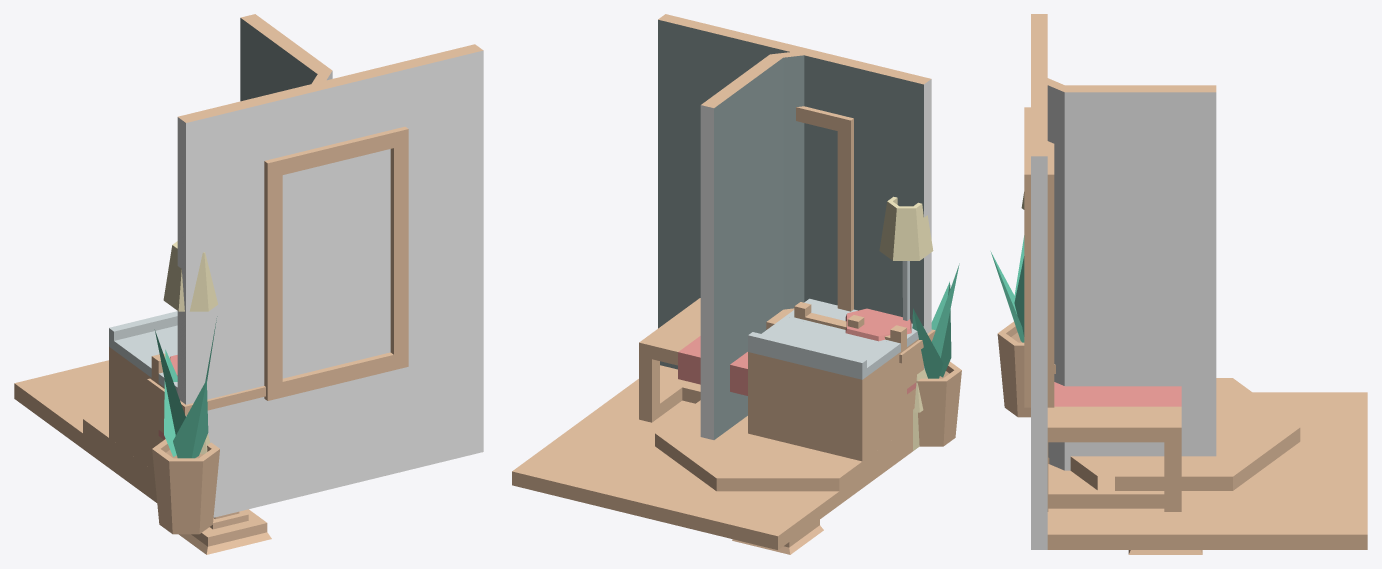
The model's file is cafe.glb.
The picture shows the model from 3 angles, left to right: view 1: azimuth 30°, elevation 25°; view 2: azimuth 150°, elevation 25°; view 3: azimuth 270°, elevation 25°; orthographic projection. The views are drawn at different scales.
Parts seen in each view (by area): view 1: wall(Clone), wallCorner(Clone), Mesh wallWindow, Mesh kitchenCabinet, floorFull(Clone), Mesh pottedPlant, tableRound(Clone), plant, lampRoundFloor(Clone), sideTable(Clone), benchCushion(Clone); view 2: wallCorner(Clone), wall(Clone), floorFull(Clone), Mesh kitchenCabinet, tableRound(Clone), Mesh wallWindow, tableCloth(Clone), lampRoundFloor(Clone), Mesh pottedPlant, plant, benchCushion(Clone), stoolBar(Clone) (+2 smaller); view 3: wallCorner(Clone), floorFull(Clone), tableCloth(Clone), tableRound(Clone), wall(Clone), Mesh wallWindow, Mesh pottedPlant, plant.
Part boxes in pixels (<box>): wall(Clone): <box>178,44,483,515</box>; wallCorner(Clone): <box>177,14,332,517</box>; Mesh wallWindow: <box>192,51,483,495</box>; Mesh kitchenCabinet: <box>109,311,177,498</box>; floorFull(Clone): <box>14,360,108,467</box>; Mesh pottedPlant: <box>152,439,219,534</box>; tableRound(Clone): <box>83,400,271,554</box>; plant: <box>154,316,217,458</box>; lampRoundFloor(Clone): <box>163,241,218,311</box>; sideTable(Clone): <box>147,378,265,415</box>; benchCushion(Clone): <box>151,354,170,502</box>; wallCorner(Clone): <box>700,49,931,439</box>; wall(Clone): <box>658,14,928,369</box>; floorFull(Clone): <box>512,365,862,549</box>; Mesh kitchenCabinet: <box>748,316,923,487</box>; tableRound(Clone): <box>655,400,900,554</box>; Mesh wallWindow: <box>658,20,923,368</box>; tableCloth(Clone): <box>639,298,747,422</box>; lampRoundFloor(Clone): <box>879,196,933,320</box>; Mesh pottedPlant: <box>916,361,961,446</box>; plant: <box>912,263,959,378</box>; benchCushion(Clone): <box>794,302,916,459</box>; stoolBar(Clone): <box>845,308,911,341</box>; wallCorner(Clone): <box>1031,14,1216,470</box>; floorFull(Clone): <box>1047,392,1367,549</box>; tableCloth(Clone): <box>1047,382,1181,511</box>; tableRound(Clone): <box>1070,378,1300,554</box>; wall(Clone): <box>1031,14,1047,549</box>; Mesh wallWindow: <box>1024,107,1054,407</box>; Mesh pottedPlant: <box>997,321,1030,417</box>; plant: <box>990,235,1024,342</box>.
Bounding box in the file's own units: 1.11 × 1.56 × 1.12.
